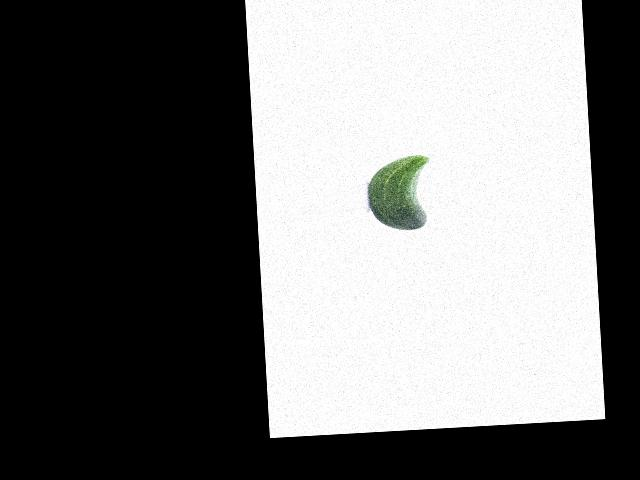cucumber: (366, 153, 432, 232)
